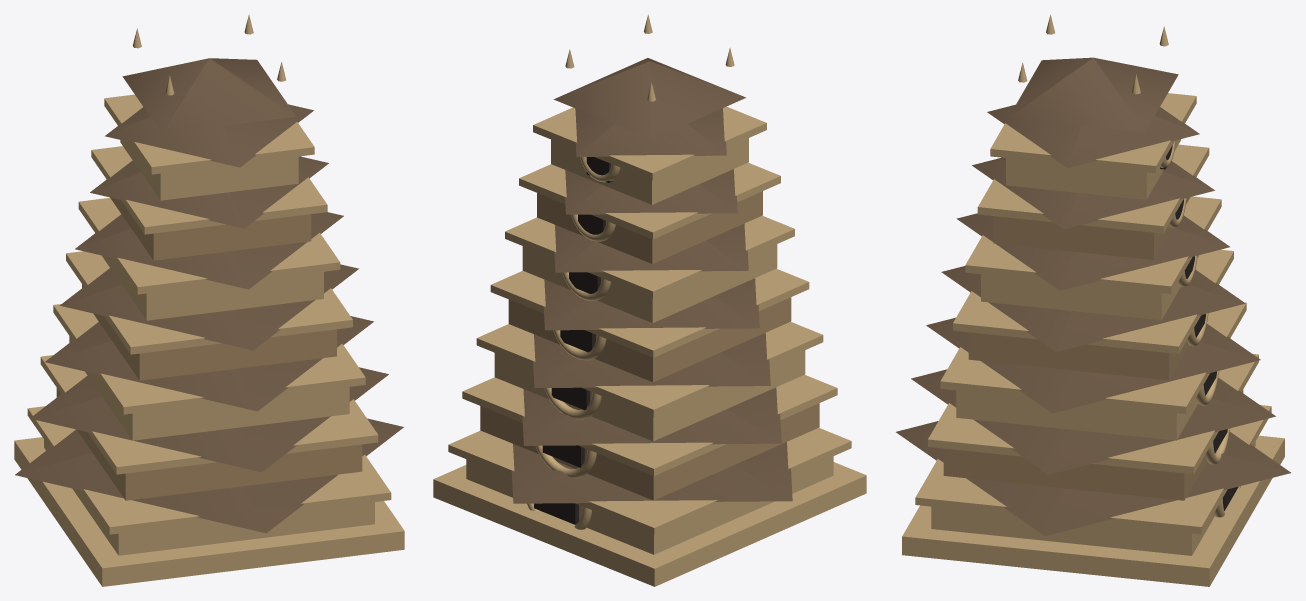
Rendered from model-medium.glb.
3 renders of one model, left to right at view 1: azimuth 30°, elevation 25°; view 2: azimuth 150°, elevation 25°; view 3: azimuth 270°, elevation 25°, orthographic. The views are drawn at different scales.
Visible parts, largest first — view 1: Roof_Eave (×8), Floor_Body (×7), Eave_Band (×7), Foundation_Platform; view 2: Roof_Eave (×8), Floor_Body (×7), Eave_Band (×7), Foundation_Platform, Door_Reveal (×4), Arched_Door_Frame (×3); view 3: Roof_Eave (×8), Floor_Body (×7), Eave_Band (×7), Foundation_Platform.
Part boxes in pixels (bbox=[...]): Roof_Eave (×8): bbox=[15, 58, 403, 533]; Floor_Body (×7): bbox=[44, 140, 374, 555]; Eave_Band (×7): bbox=[27, 94, 391, 534]; Foundation_Platform: bbox=[14, 437, 404, 586]; Roof_Eave (×8): bbox=[511, 58, 792, 503]; Floor_Body (×7): bbox=[466, 138, 833, 554]; Eave_Band (×7): bbox=[448, 106, 851, 535]; Foundation_Platform: bbox=[433, 462, 866, 586]; Door_Reveal (×4): bbox=[534, 330, 595, 524]; Arched_Door_Frame (×3): bbox=[535, 330, 606, 478]; Roof_Eave (×8): bbox=[896, 57, 1290, 535]; Floor_Body (×7): bbox=[931, 139, 1255, 555]; Eave_Band (×7): bbox=[915, 93, 1271, 534]; Foundation_Platform: bbox=[902, 435, 1284, 586].
Size of the model in its own units: 5.76 by 7.41 by 5.76.
